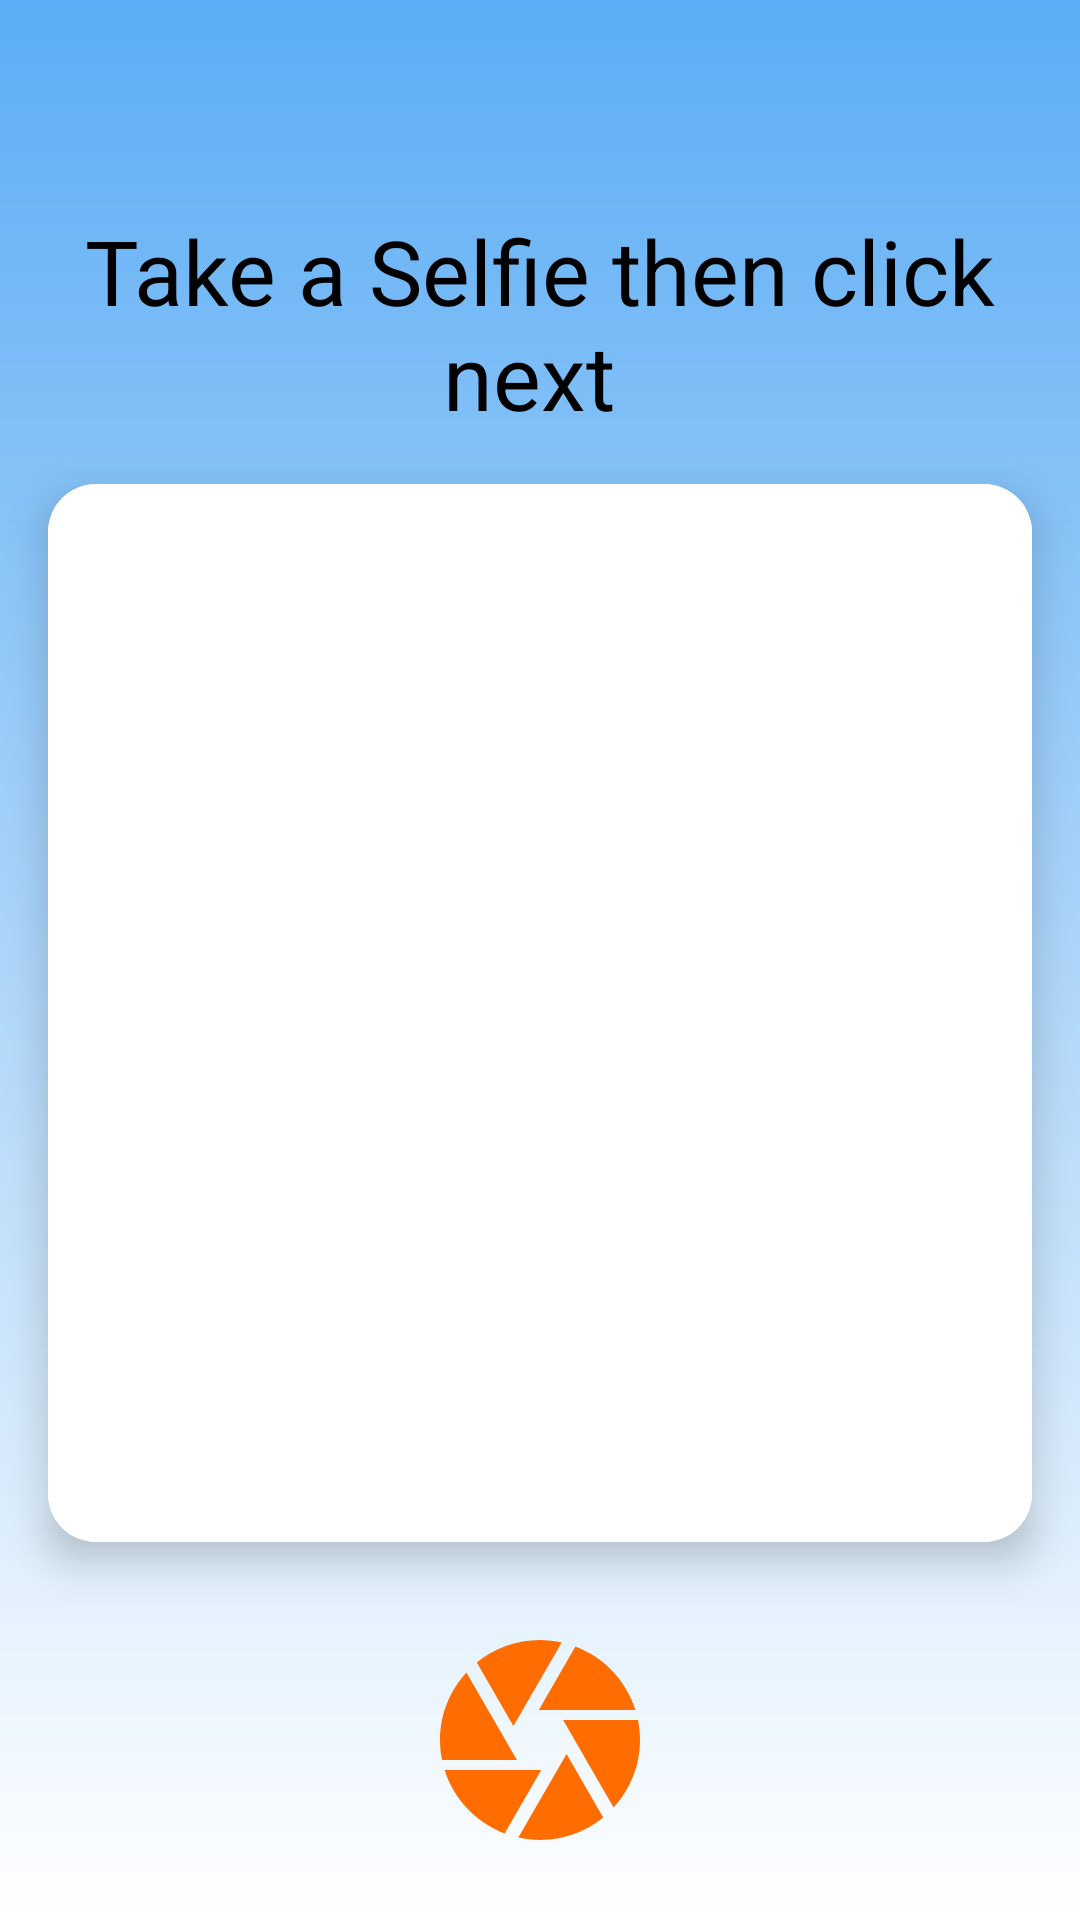

Locate icon controls on the screen. Image size 1080x1920, boxes as (x1, y1, x2, y2).
camera: (440, 1640, 640, 1840)
